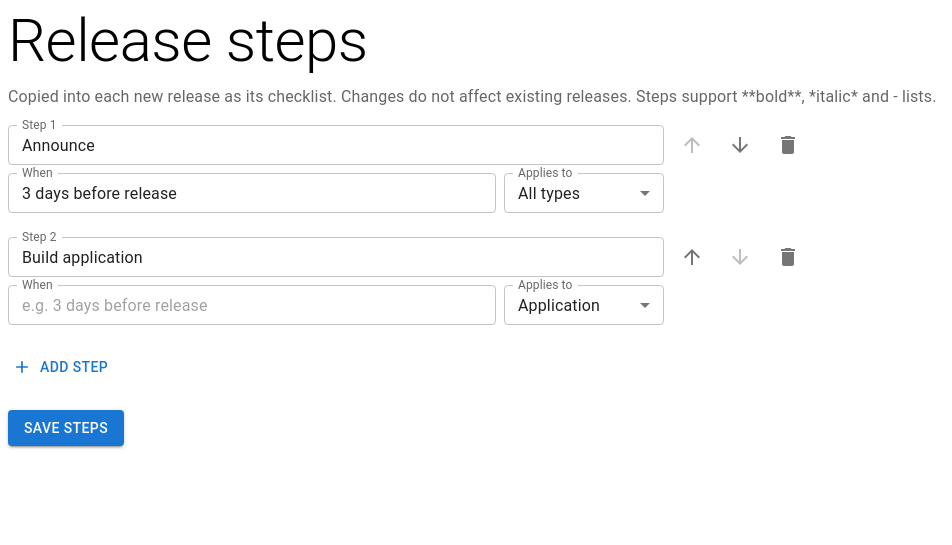
Test case: ReleaseStepsForm › shows a save error
Click the button "Save steps".
click(66, 428)  # box [8,410,124,446]
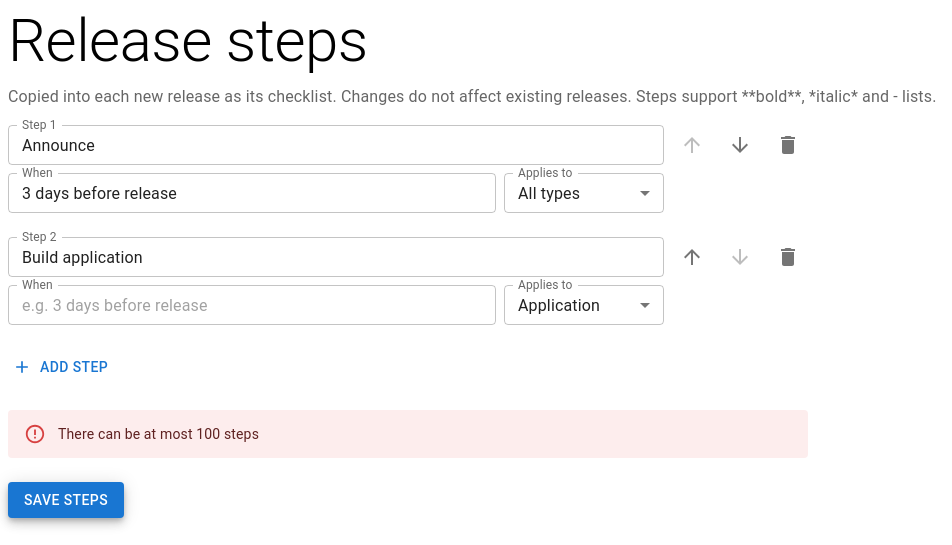
Result: the text "There can be at most 100 steps" is shown at [58,426,259,442]
